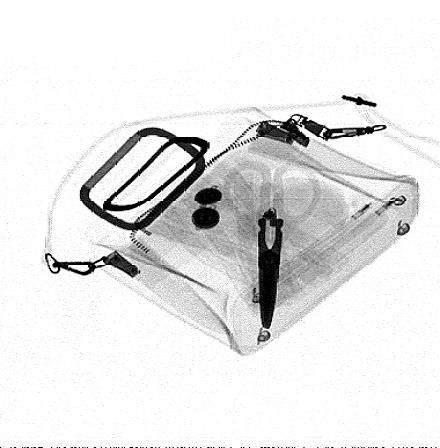Scissors: (221, 156, 326, 331)
